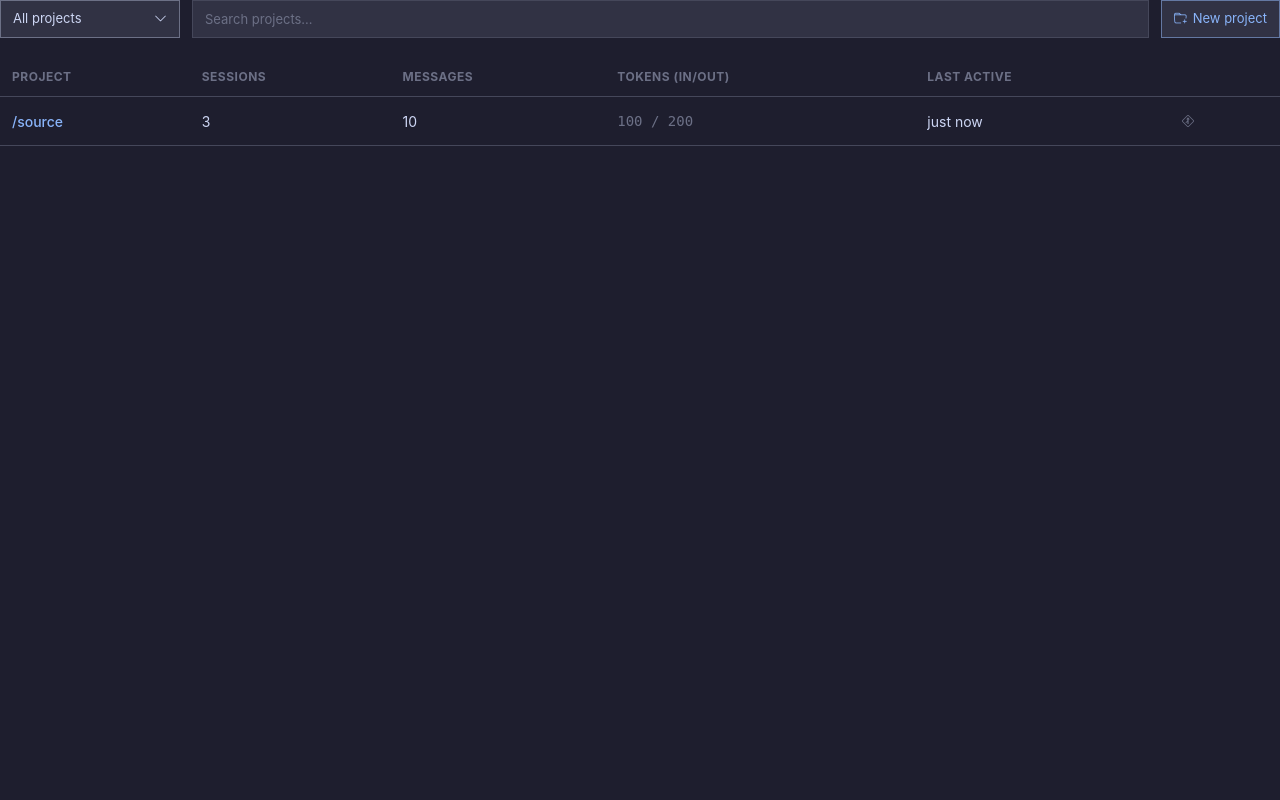
Test: ProjectsTab › disables target selection when no other projects are available
Click the button named "Merge /source". click: point(1188, 121)
box: x1=1174 y1=107 x2=1202 y2=135
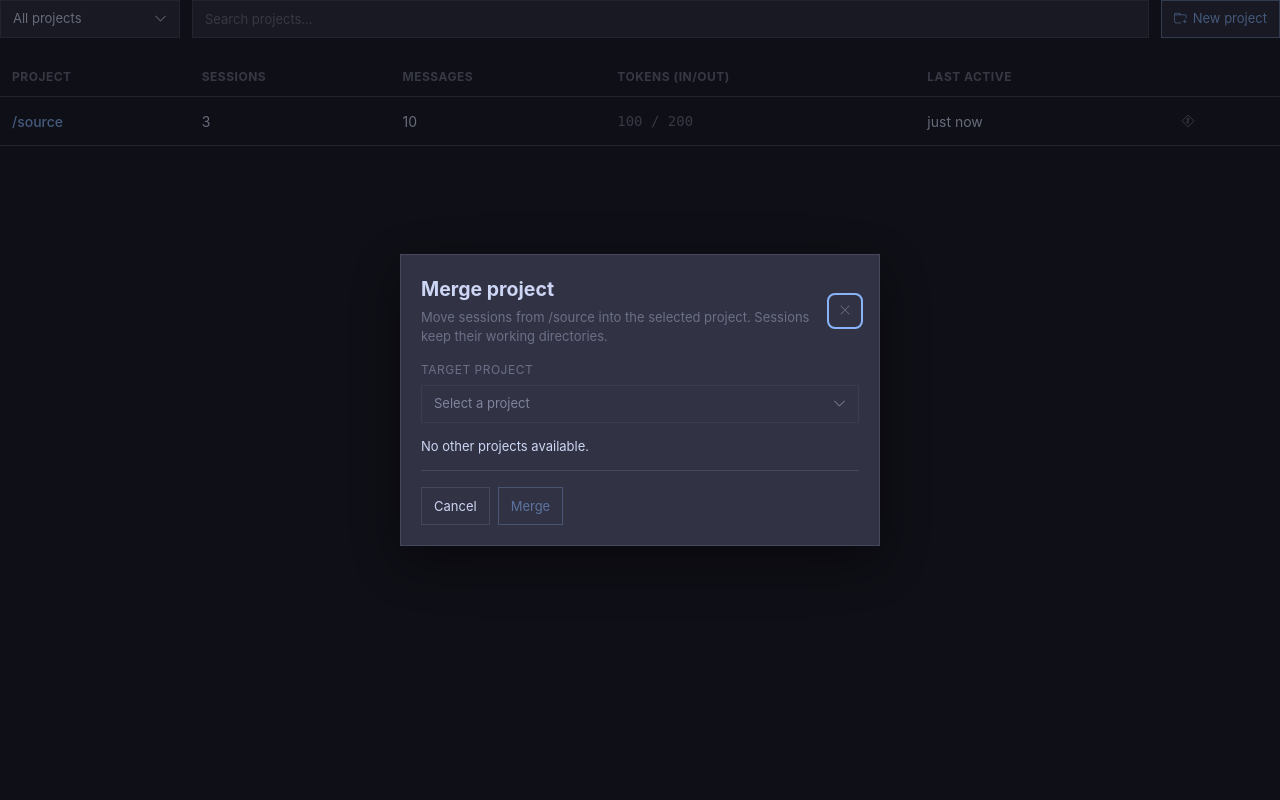
Expected: the dropdown named "Target project" is disabled, x1=421 y1=385 x2=859 y2=423
Expected: the button "Merge" is disabled, x1=498 y1=487 x2=563 y2=525
Expected: the text "No other projects available." is shown, x1=421 y1=438 x2=589 y2=454
